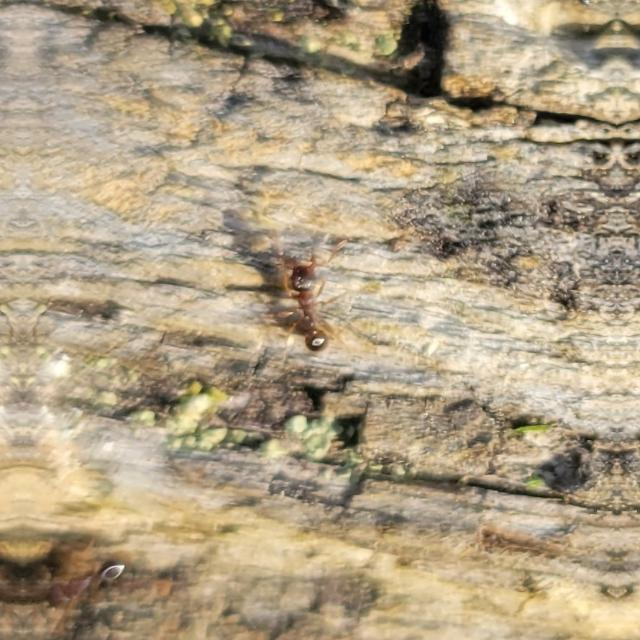Tetramorium: (276, 243, 348, 367)
